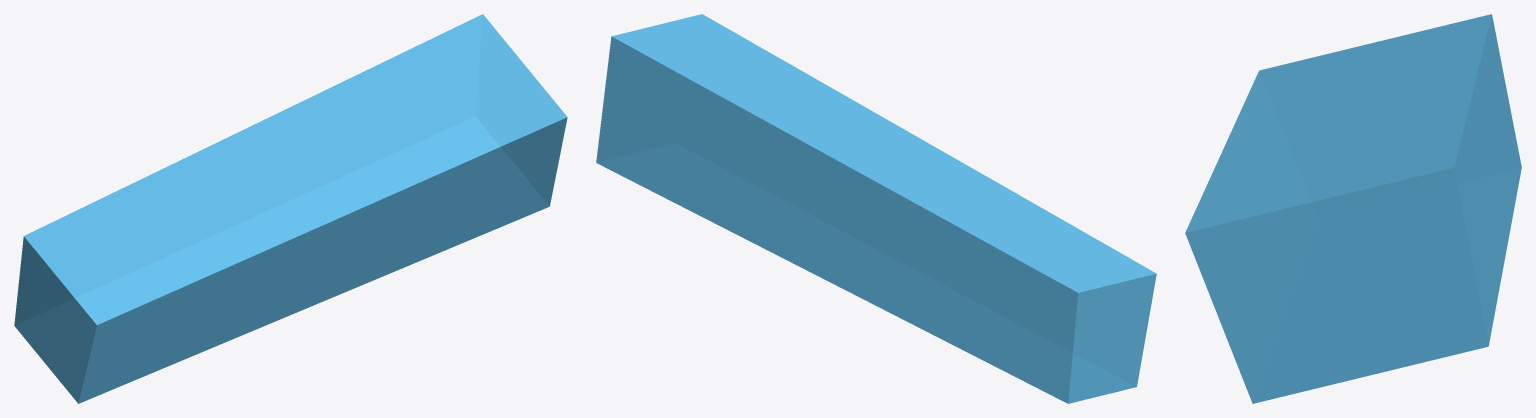
Rendered from Event_421278790_HErechit_37.fbx.
The picture shows the model from 3 angles, left to right: view 1: azimuth 30°, elevation 25°; view 2: azimuth 150°, elevation 25°; view 3: azimuth 270°, elevation 25°; orthographic projection. The views are drawn at different scales.
Visible parts, largest first — view 1: Model; view 2: Model; view 3: Model.
Part boxes in pixels (x1,y1,x2,y2): Model: [14, 14, 567, 403]; Model: [596, 14, 1156, 403]; Model: [1185, 14, 1521, 403].
Size of the model in its own units: 1.75 by 0.9237 by 0.7114.
